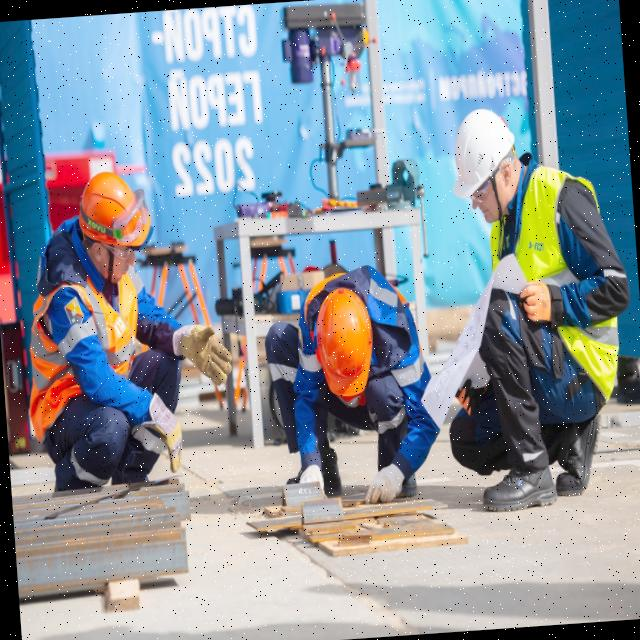Helmet: (75, 164, 158, 286), (311, 284, 378, 399), (450, 107, 519, 202)
Jacket: (509, 179, 613, 384), (35, 256, 156, 422)
